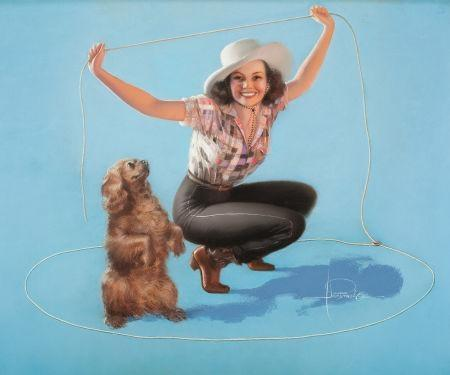person: (90, 6, 336, 292)
